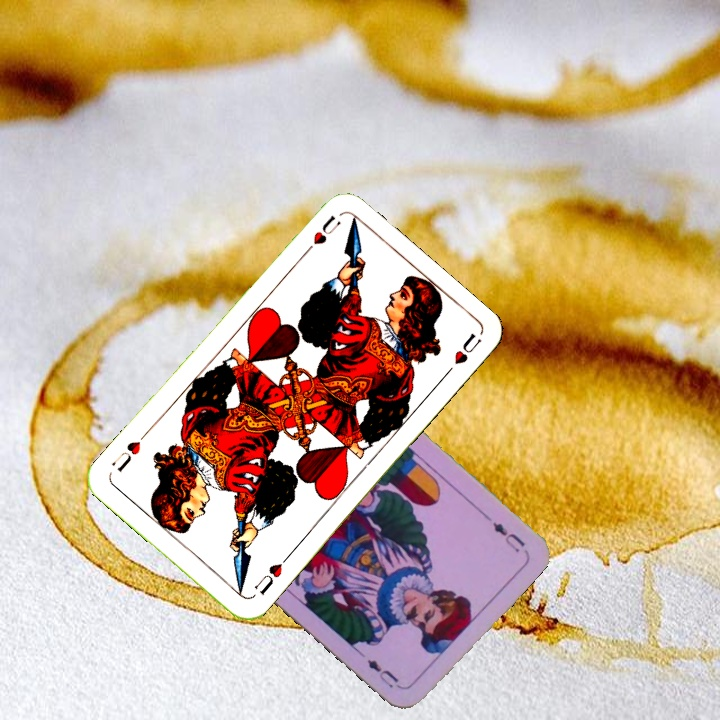EU: (488, 518, 528, 555)
HU: (298, 211, 344, 259), (250, 551, 292, 599)
